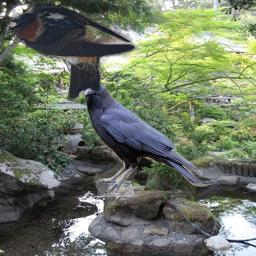Crow: (80, 80, 203, 197)
Swallow: (5, 1, 138, 100)
